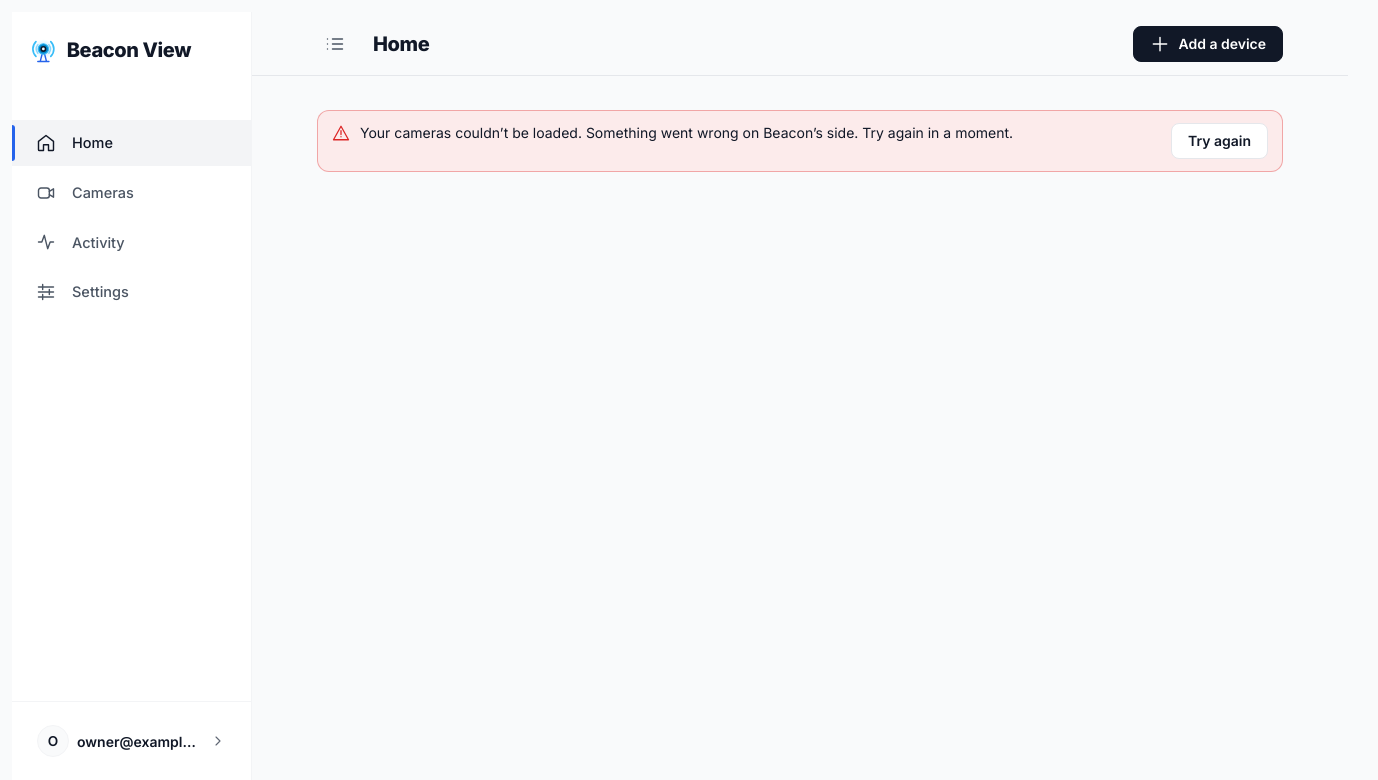
Test case: App › offers a retry instead of “Add your first device” when cameras fail to load
Expected: the message shows "cameras couldn’t be loaded", x1=360 y1=124 x2=1013 y2=141
Expected: the text "Add your first device" is not shown
Click the button "Try again" at (1220, 141), box x1=1171 y1=123 x2=1268 y2=159
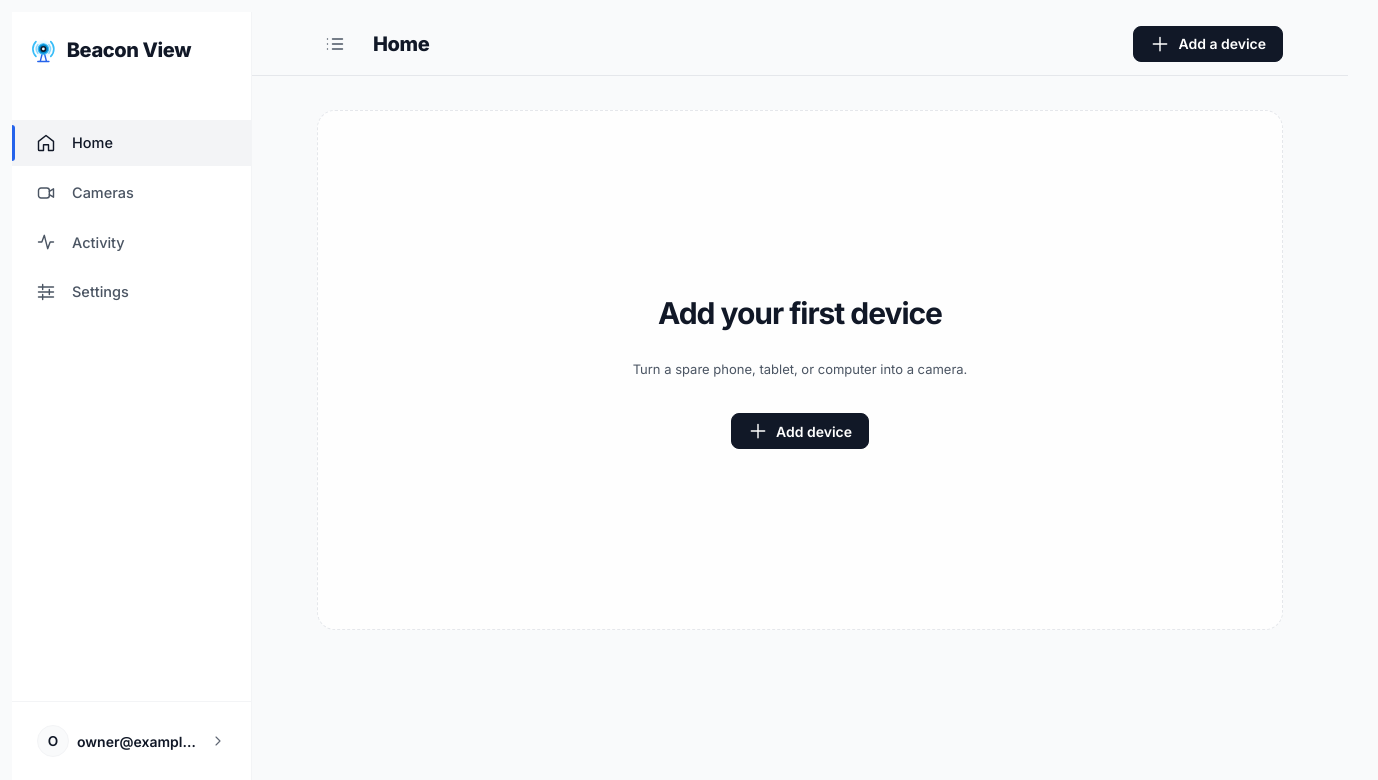
Expected: the heading "Add your first device" is shown, x1=658 y1=291 x2=942 y2=336
Expected: the message is gone
